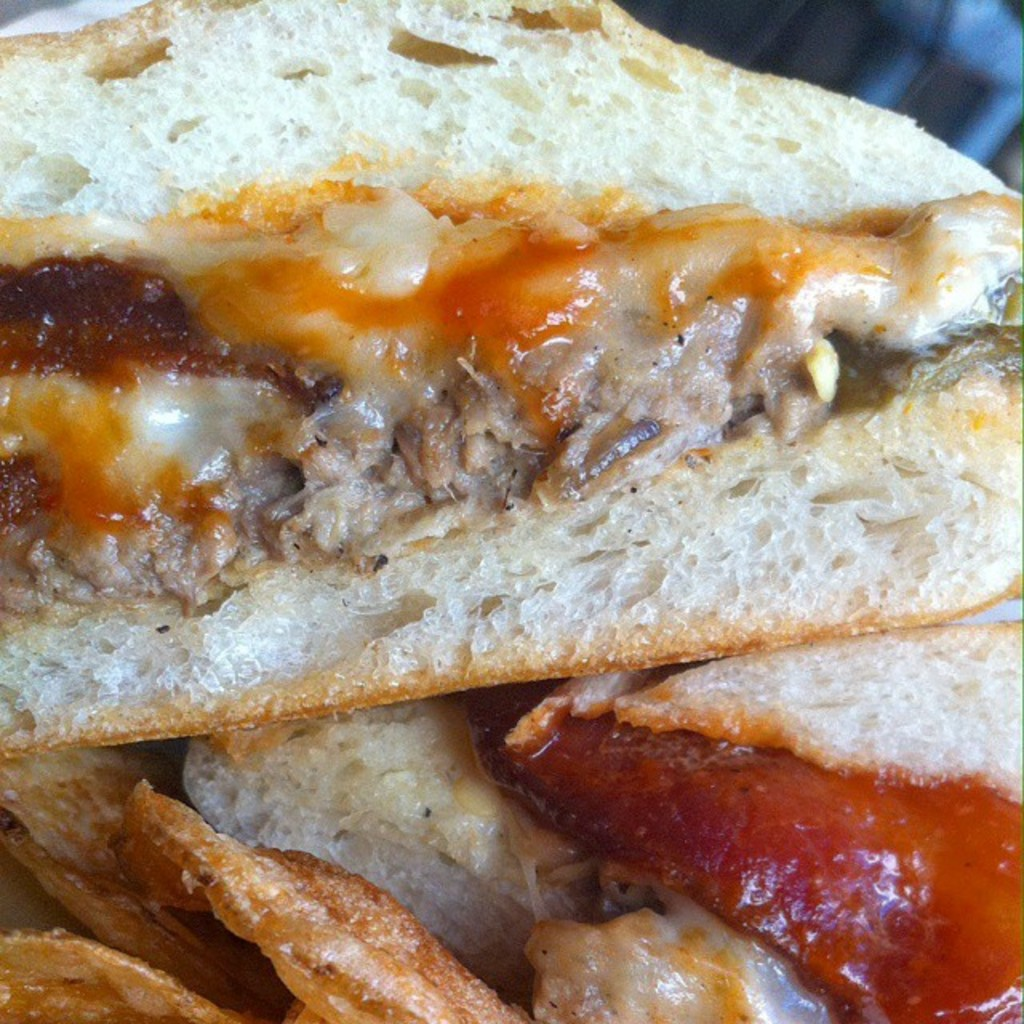sandwich: (0, 0, 1022, 758), (0, 622, 1022, 1022)
